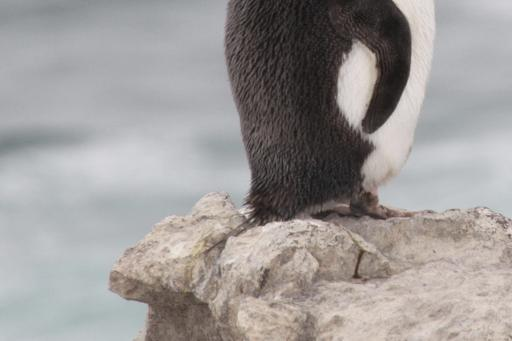Southern Rockhopper Penguin: (220, 0, 473, 231)
